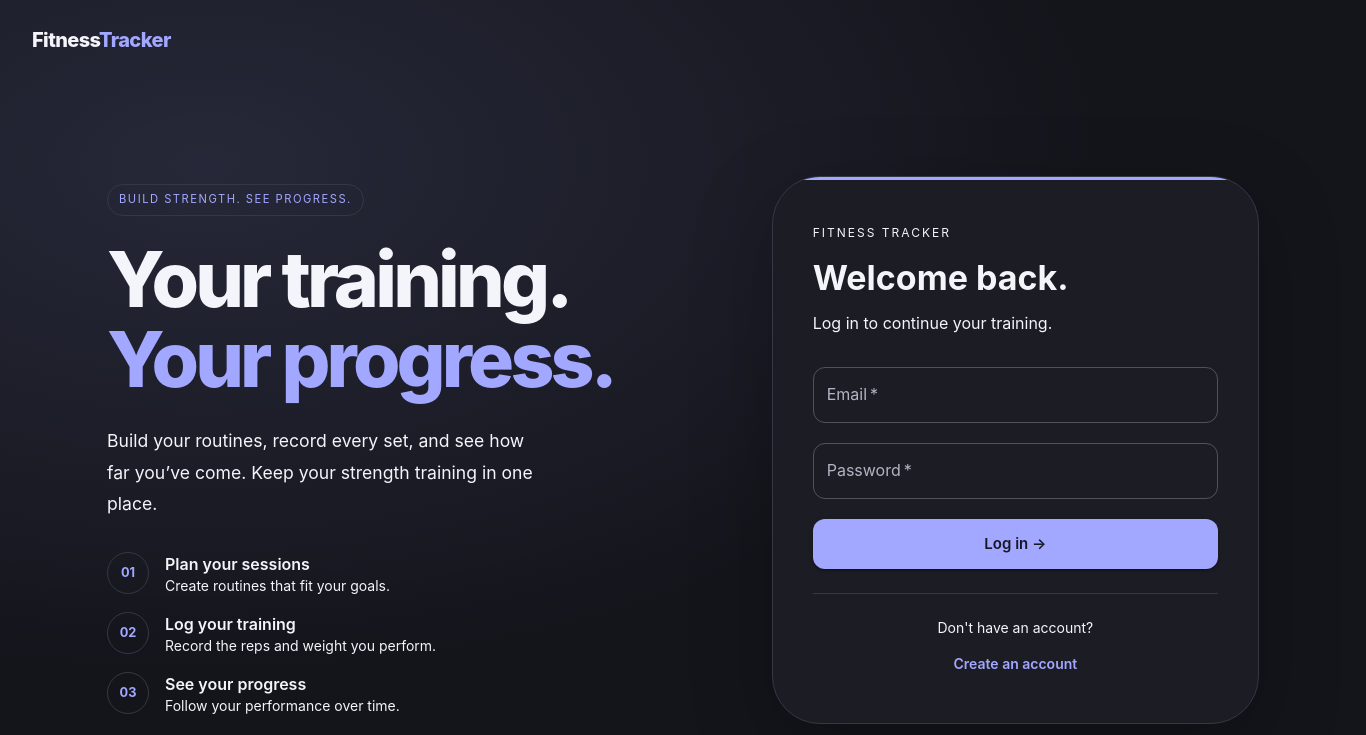
Authentication › registers an account and returns to the login form
Click the button "Create an account" at coordinates (1016, 665), box [813,646,1218,683]
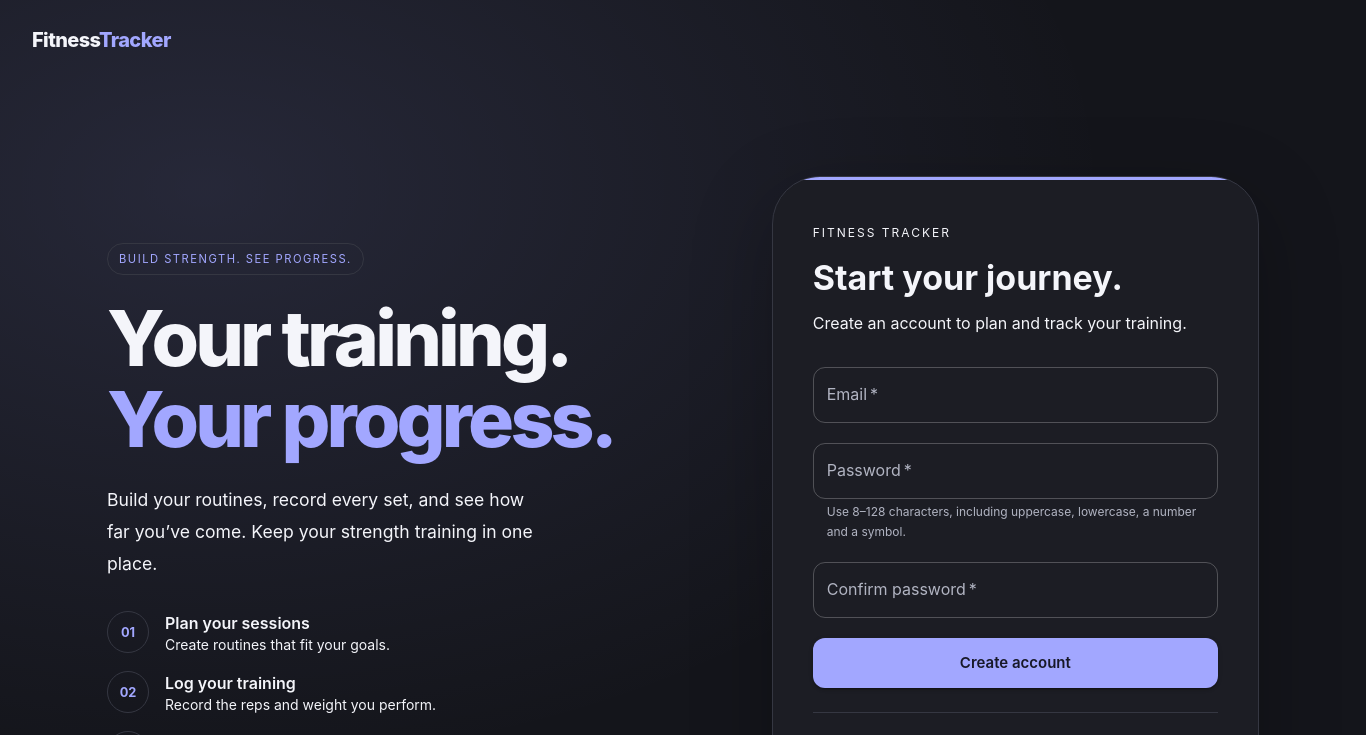
Type "new@example.com" into the field labelled "Email *" at coordinates (1016, 395), box [813,367,1218,423]
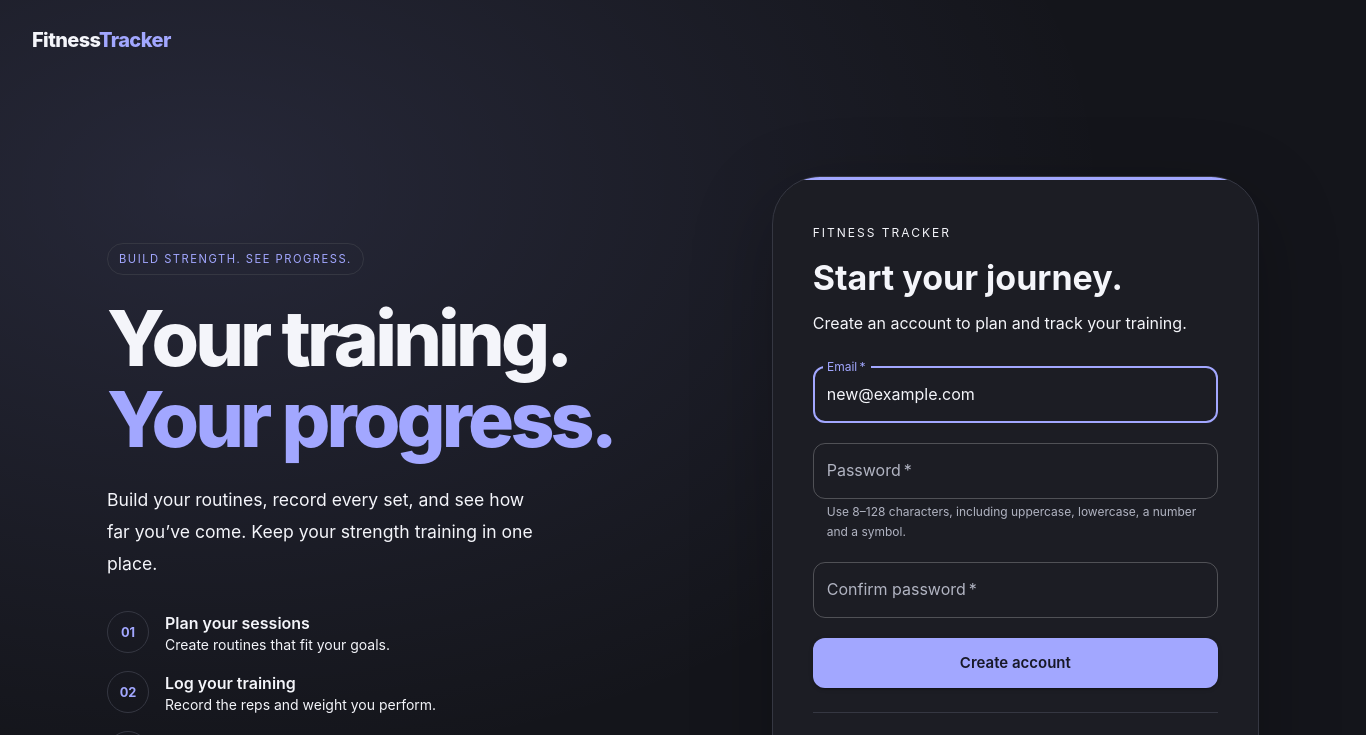
Type "TestAccount123!" into the password field labelled "Password *" at coordinates (1016, 471), box [813,443,1218,499]
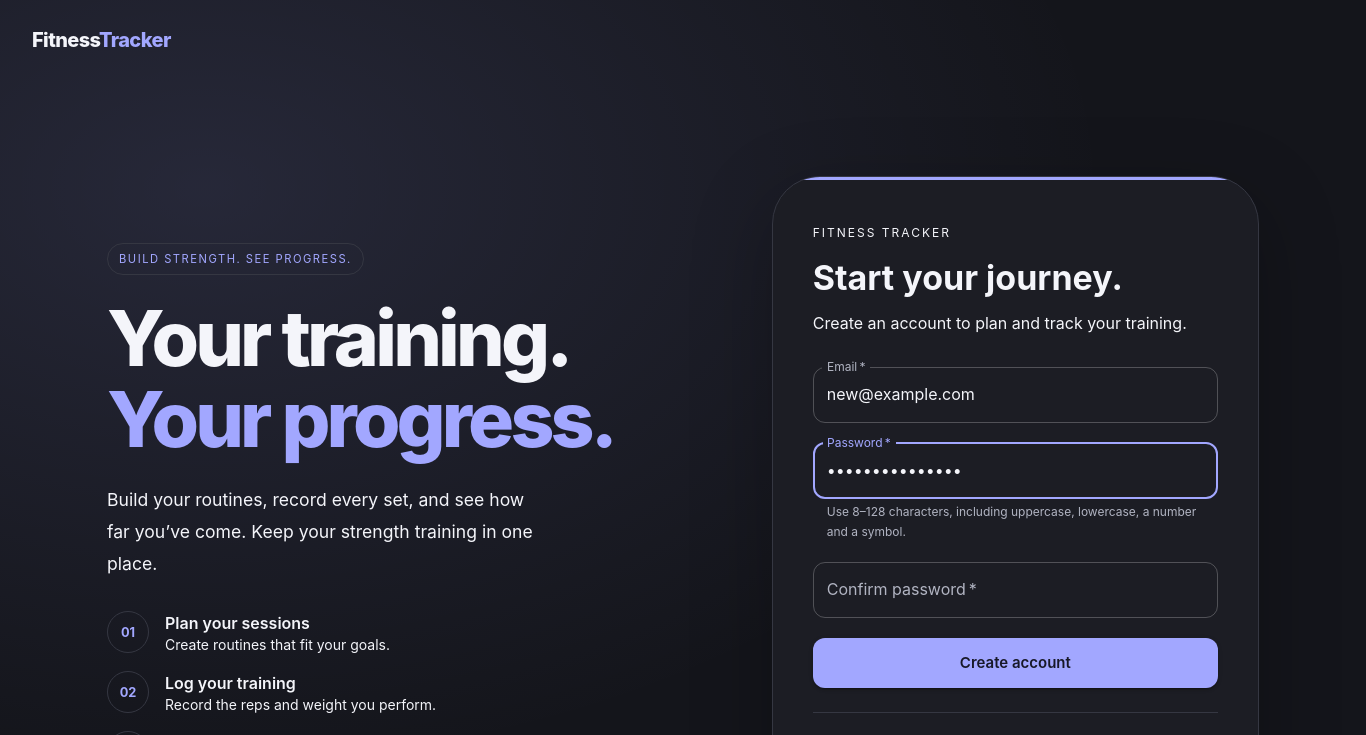
Type "TestAccount123!" into the password field labelled "Confirm password *" at coordinates (1016, 590), box [813,562,1218,618]
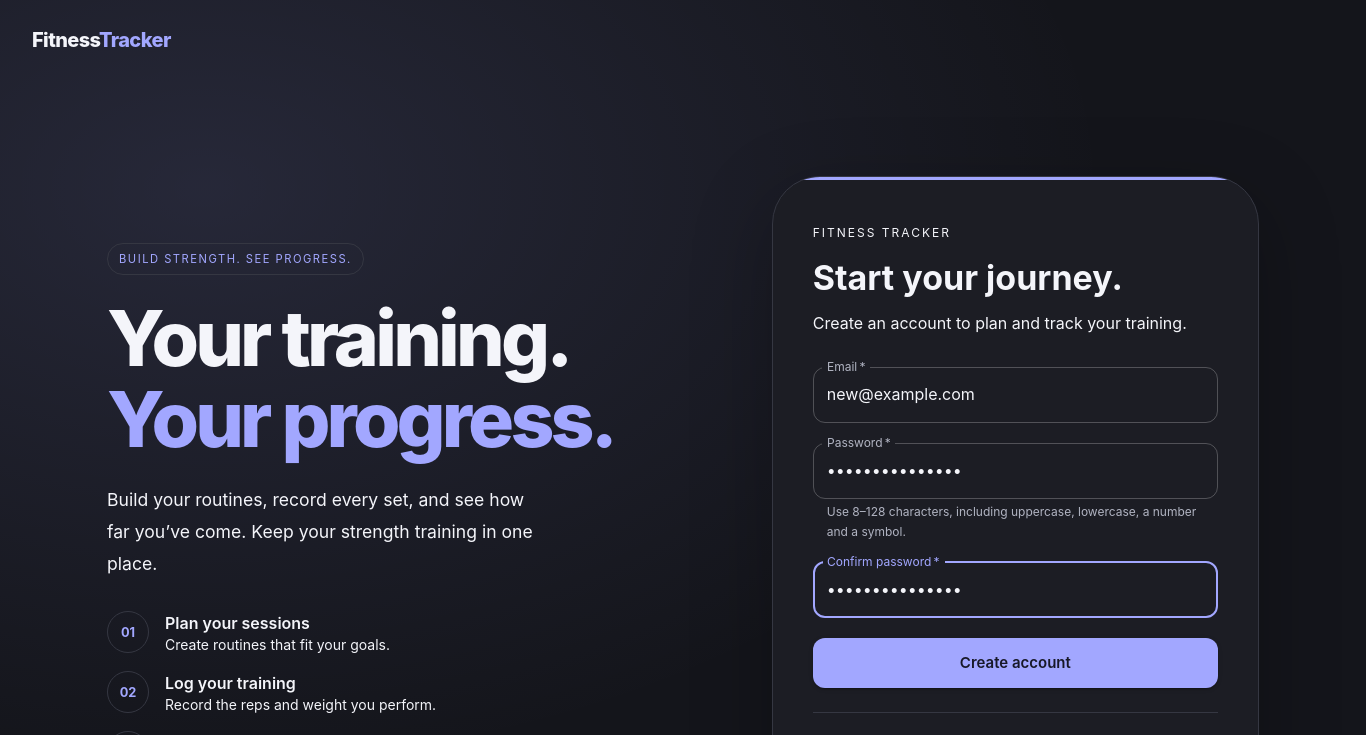
Click the button "Create account" at coordinates (1016, 663), box [813,638,1218,688]
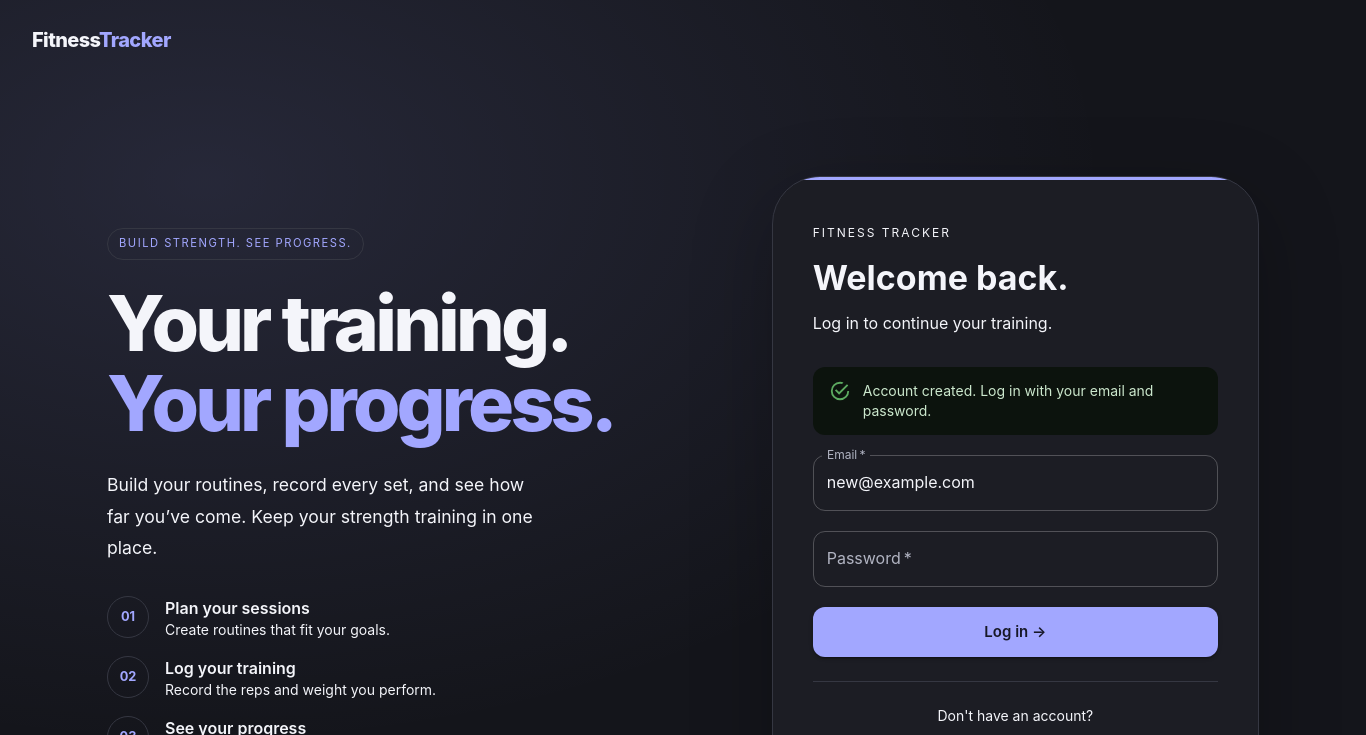
Now the text "Account created. Log in with your email and password." is shown, box [813,367,1218,435]
Now the heading "Welcome back." is shown, box [813,257,1068,298]
Now the password field named "confirmPassword" is gone
